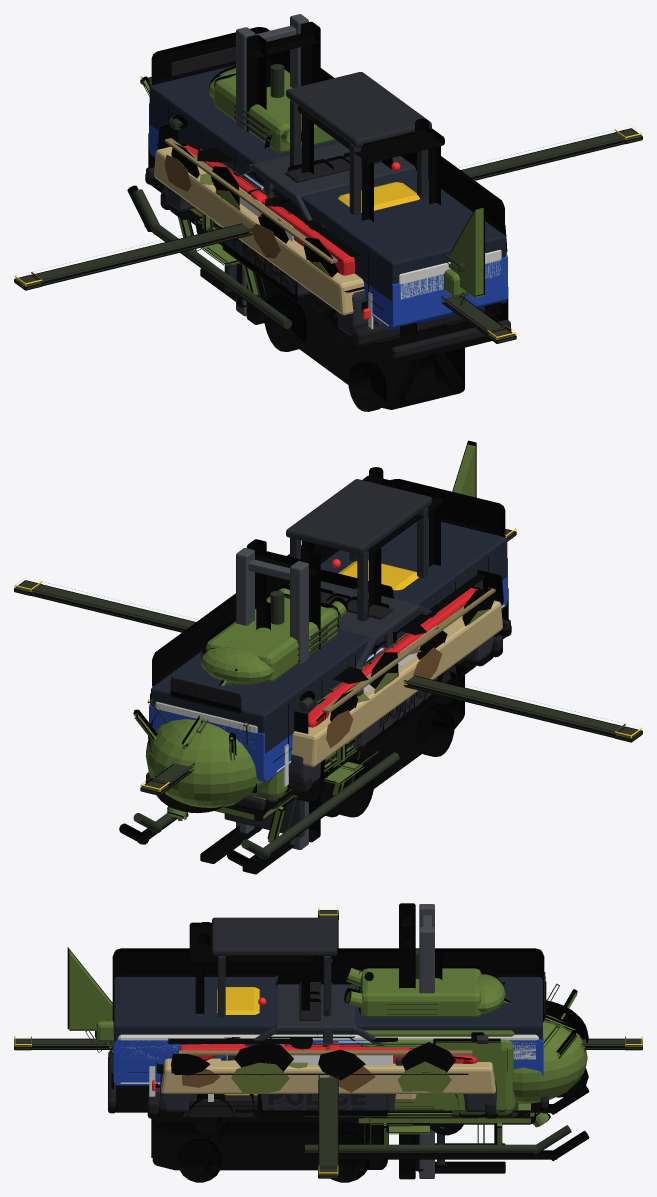
Rendered from ArmyKit.glb.
3 renders of one model, top to bottom at view 1: azimuth 30°, elevation 25°; view 2: azimuth 150°, elevation 25°; view 3: azimuth 270°, elevation 25°, orthographic. The views are drawn at different scales.
Visible parts, largest first — view 1: Factory_Forklift__000000, City_Bus__1E2634, City_Bus__000000, Factory_Forklift__26282E, Heli_Body__5E7A34, Tank_Hull__C9B27C, Heli_Rotor__2C3424, Cop_Body__2A2D36, City_Bus__2850BE, Tank_Hull__000000, Heli_Body__2C3424, Heli_Rotor__000000 (+11 smaller); view 2: Heli_Body__5E7A34, City_Bus__1E2634, Factory_Forklift__000000, Factory_Forklift__26282E, City_Bus__000000, Tank_Hull__C9B27C, Heli_Rotor__2C3424, Heli_Body__2C3424, Cop_Body__2A2D36, Heli_Body__000000, Factory_Forklift__464A52, Tank_Hull__000000 (+12 smaller); view 3: Heli_Body__5E7A34, Factory_Forklift__000000, City_Bus__1E2634, City_Bus__000000, Heli_Body__000000, Factory_Forklift__26282E, Cop_Body__2A2D36, Tank_Hull__000000, Tank_Hull__C9B27C, Heli_Body__2C3424, City_Bus__2850BE, Heli_Rotor__2C3424 (+14 smaller).
Part boxes in pixels (<box>): Factory_Forklift__000000: <box>200,21,464,411</box>; City_Bus__1E2634: <box>149,65,505,301</box>; City_Bus__000000: <box>145,27,511,364</box>; Factory_Forklift__26282E: <box>224,72,431,291</box>; Heli_Body__5E7A34: <box>141,68,483,298</box>; Tank_Hull__C9B27C: <box>154,146,364,315</box>; Heli_Rotor__2C3424: <box>14,77,641,342</box>; Cop_Body__2A2D36: <box>163,142,415,335</box>; City_Bus__2850BE: <box>149,103,507,330</box>; Tank_Hull__000000: <box>157,115,507,292</box>; Heli_Body__2C3424: <box>134,64,468,328</box>; Heli_Rotor__000000: <box>14,77,642,343</box>; Heli_Body__5E7A34: <box>134,444,475,842</box>; City_Bus__1E2634: <box>151,518,507,753</box>; Factory_Forklift__000000: <box>200,467,464,874</box>; Factory_Forklift__26282E: <box>224,479,431,837</box>; City_Bus__000000: <box>145,479,511,816</box>; Tank_Hull__C9B27C: <box>291,600,502,766</box>; Heli_Rotor__2C3424: <box>15,529,642,794</box>; Heli_Body__2C3424: <box>133,586,410,859</box>; Cop_Body__2A2D36: <box>288,581,493,783</box>; Heli_Body__000000: <box>119,440,476,870</box>; Factory_Forklift__464A52: <box>236,548,308,849</box>; Tank_Hull__000000: <box>294,570,503,733</box>; Heli_Body__5E7A34: <box>69,950,587,1145</box>; Factory_Forklift__000000: <box>151,903,505,1182</box>; City_Bus__1E2634: <box>113,977,543,1042</box>; City_Bus__000000: <box>108,948,548,1135</box>; Heli_Body__000000: <box>67,947,589,1161</box>; Factory_Forklift__26282E: <box>212,917,444,1165</box>; Cop_Body__2A2D36: <box>160,975,496,1111</box>; Tank_Hull__000000: <box>147,1032,492,1106</box>; Tank_Hull__C9B27C: <box>161,1058,495,1093</box>; Heli_Body__2C3424: <box>85,949,571,1154</box>; City_Bus__2850BE: <box>113,1039,543,1085</box>; Heli_Rotor__2C3424: <box>15,910,641,1177</box>.
Bounding box in the file's own units: 32.15 × 14.05 × 32.15.
